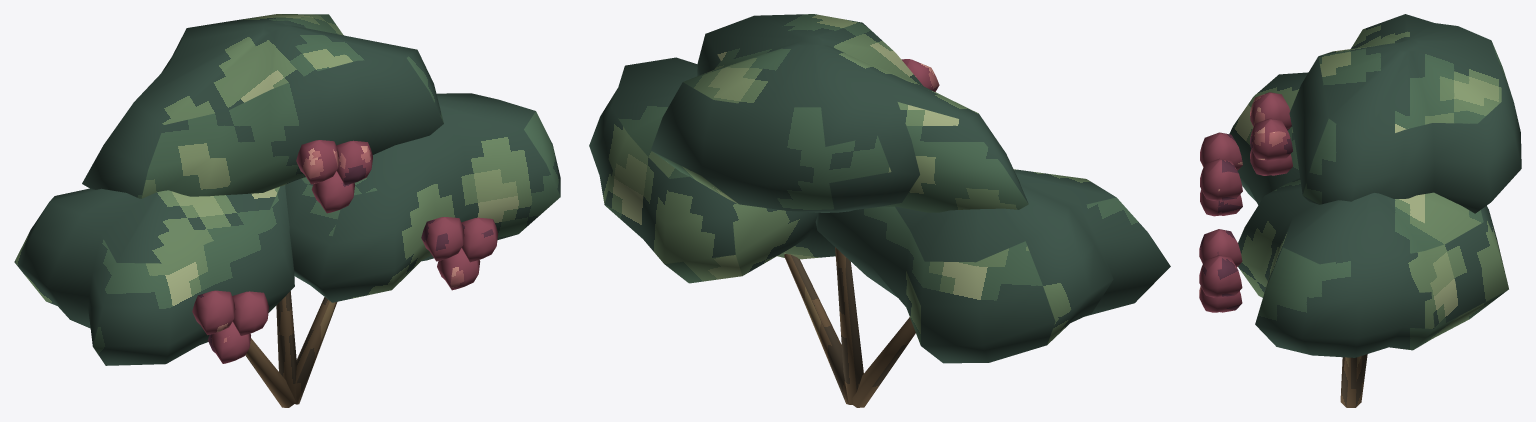
Rendered from berry-bush-graphic.glb.
3 renders of one model, left to right at view 1: azimuth 30°, elevation 25°; view 2: azimuth 150°, elevation 25°; view 3: azimuth 270°, elevation 25°, orthographic. The views are drawn at different scales.
Parts seen in each view (by area): view 1: berry-bush-graphic runtime mesh; view 2: berry-bush-graphic runtime mesh; view 3: berry-bush-graphic runtime mesh.
Boxes of the visible parts, box(x1,y1,x2,y2) form: berry-bush-graphic runtime mesh: box(14, 14, 560, 407); berry-bush-graphic runtime mesh: box(589, 14, 1170, 407); berry-bush-graphic runtime mesh: box(1199, 14, 1521, 407).
Size of the model in its own units: 1.42 by 0.986 by 0.78.
3 materials, 3 textured.
